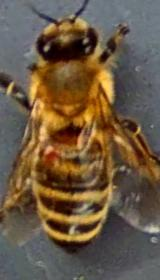varroa_mite: (32, 140, 65, 166)
